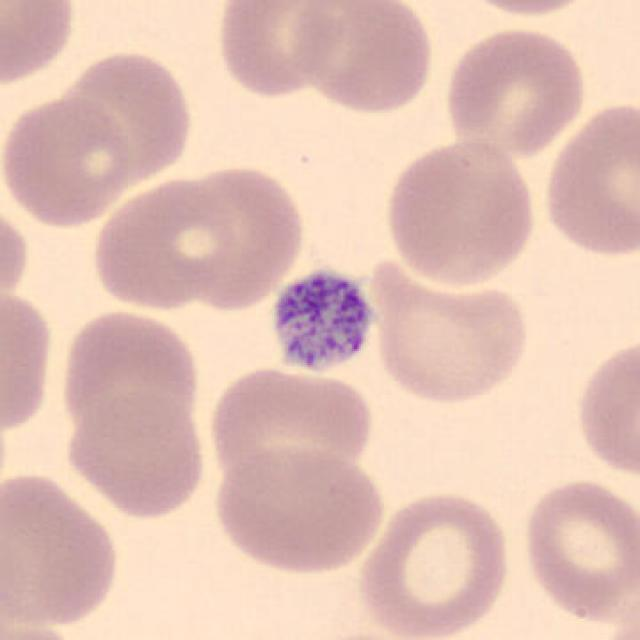Platelets: (267, 264, 377, 378)
RBC: (366, 254, 534, 409), (206, 439, 388, 578), (380, 136, 540, 289), (354, 487, 516, 638), (203, 362, 377, 496), (87, 173, 238, 312), (441, 21, 590, 161), (55, 305, 205, 444), (171, 161, 309, 312), (0, 466, 126, 631), (58, 388, 212, 520), (54, 46, 195, 187), (0, 91, 133, 229), (518, 474, 638, 624), (287, 0, 437, 116), (538, 97, 640, 262), (211, 0, 344, 100), (570, 331, 640, 483), (0, 282, 57, 443), (0, 0, 82, 90), (0, 201, 32, 307), (451, 0, 604, 19), (0, 617, 94, 640), (586, 613, 640, 640)
